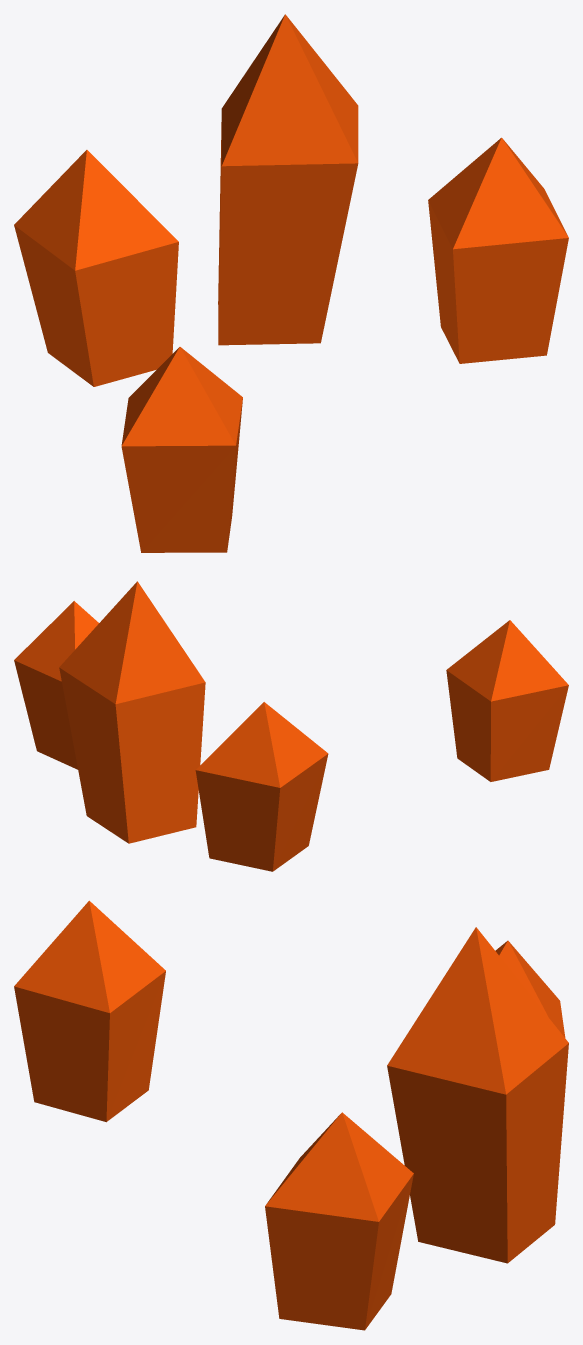
File: crystal_ignis_3.obj
3 renders of one model, top to bottom at view 1: azimuth 30°, elevation 25°; view 2: azimuth 150°, elevation 25°; view 3: azimuth 270°, elevation 25°, orthographic. The views are drawn at different scales.
Parts seen in each view (by area): view 1: s016, s017, s014, s015; view 2: s016, s017, s015, s014; view 3: s016, s015, s014, s017.
Boxes of the visible parts, left/top/right/bottom form: s016: left=218, top=14, right=358, bottom=345; s017: left=14, top=150, right=178, bottom=386; s014: left=428, top=137, right=568, bottom=363; s015: left=121, top=347, right=242, bottom=552; s016: left=59, top=581, right=205, bottom=843; s017: left=195, top=702, right=328, bottom=871; s015: left=446, top=620, right=568, bottom=781; s014: left=14, top=601, right=98, bottom=769; s016: left=387, top=927, right=568, bottom=1263; s015: left=14, top=900, right=165, bottom=1122; s014: left=265, top=1112, right=413, bottom=1330; s017: left=495, top=940, right=565, bottom=1037.
Size of the model in its own units: 0.8279 by 0.4254 by 0.6865.
